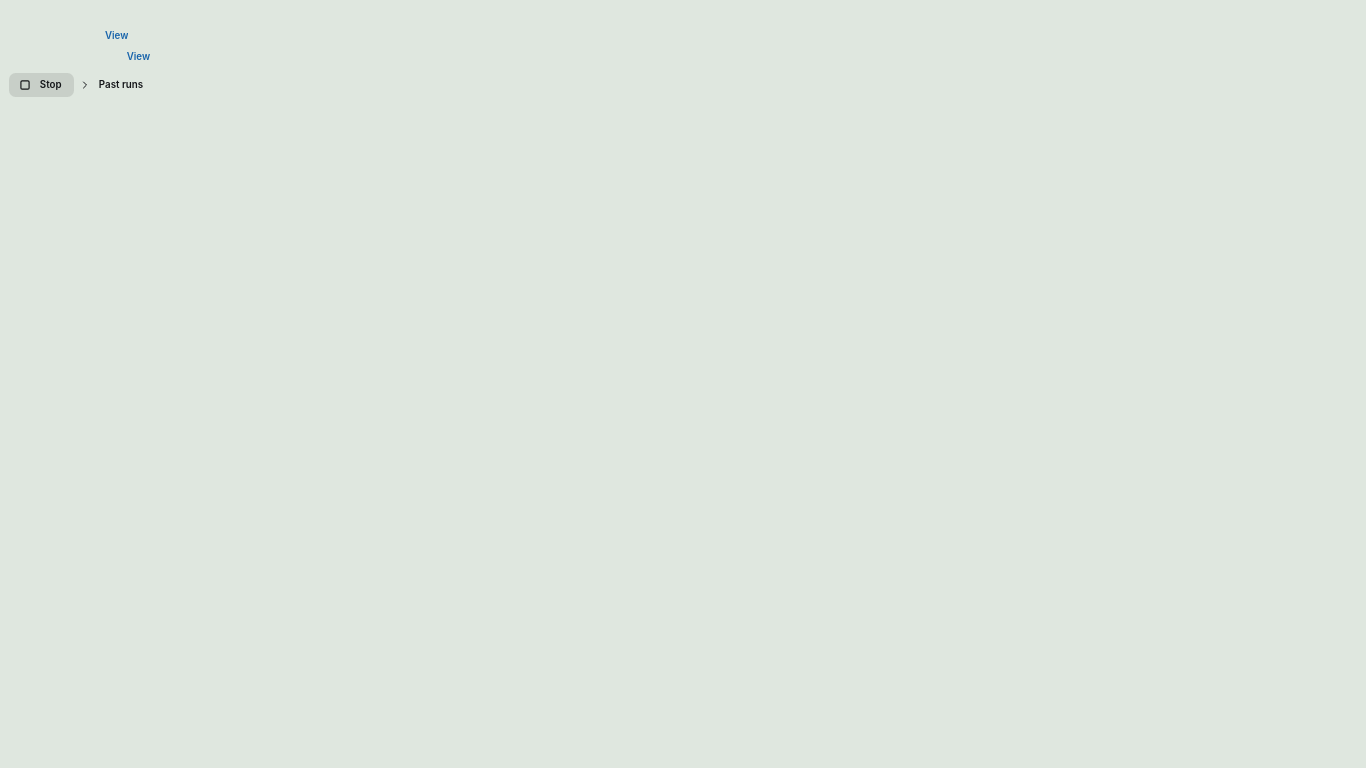
it: ChainRunCard — past runs (D8) › is collapsed by default and expands to show run history on request
Click the button with test id "chain-run-card-history-toggle" at (112, 85), box [74,76,150,94]
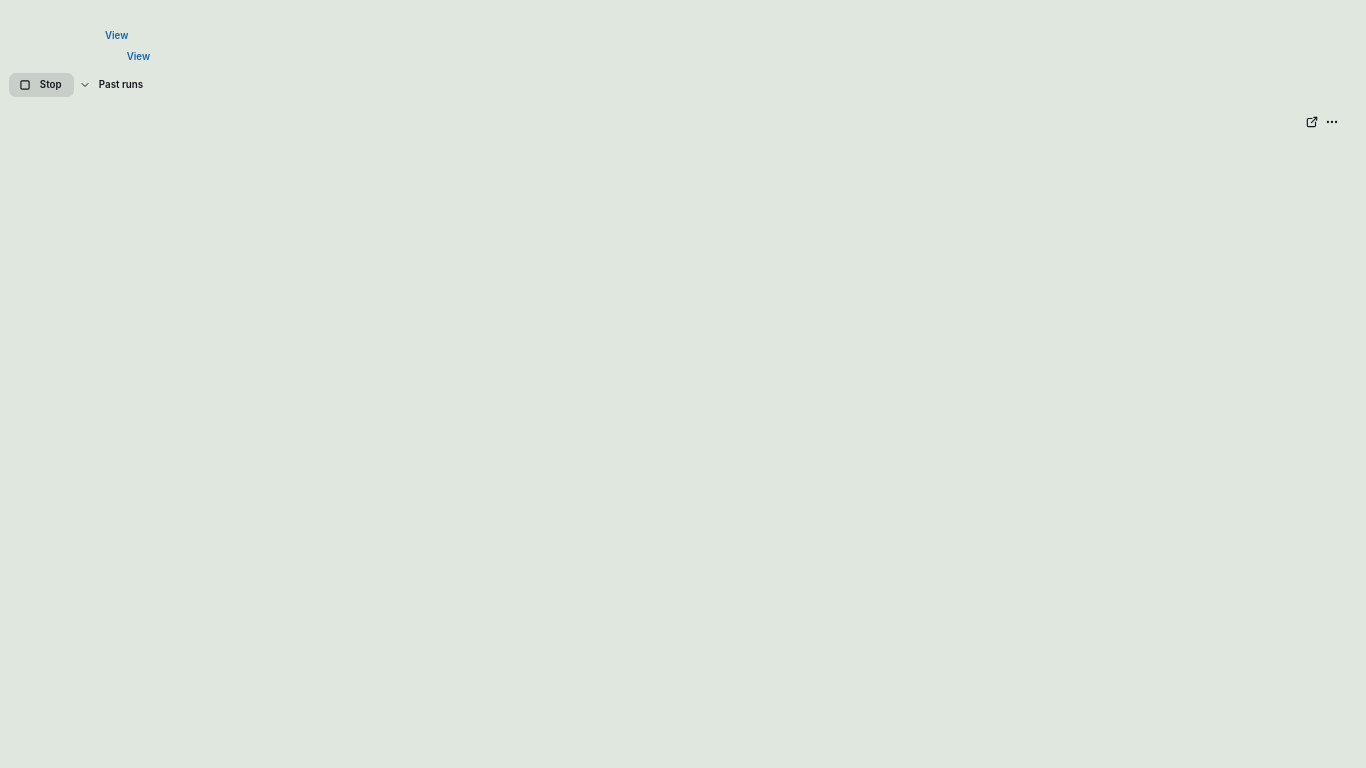
Expected: the element with test id "chain-run-row-past-run-1" is shown, [17,105,1349,159]
